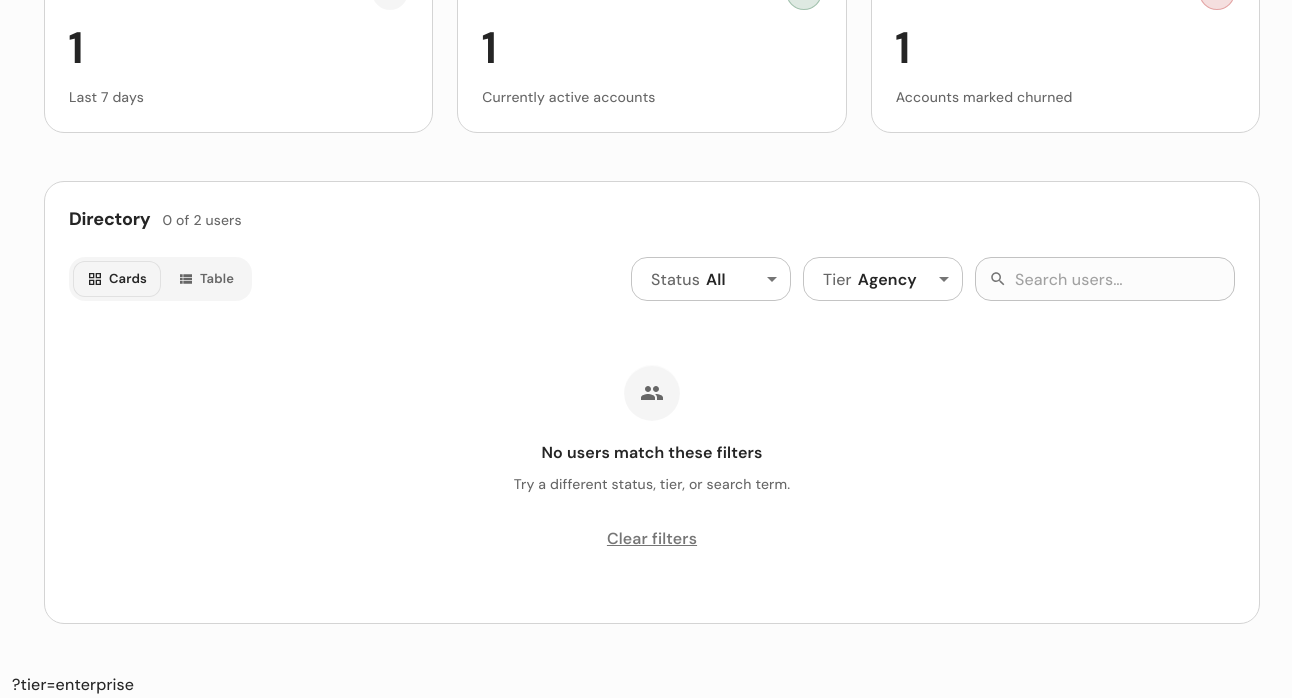
it: UserManagement › reads filters from the URL on load and can clear them
(page scrolled)
Expected: the text "No users match these filters" is shown, [542,441,762,465]
Click the button "Clear filters".
click(652, 540)  # box [599,520,705,560]
(page scrolled)
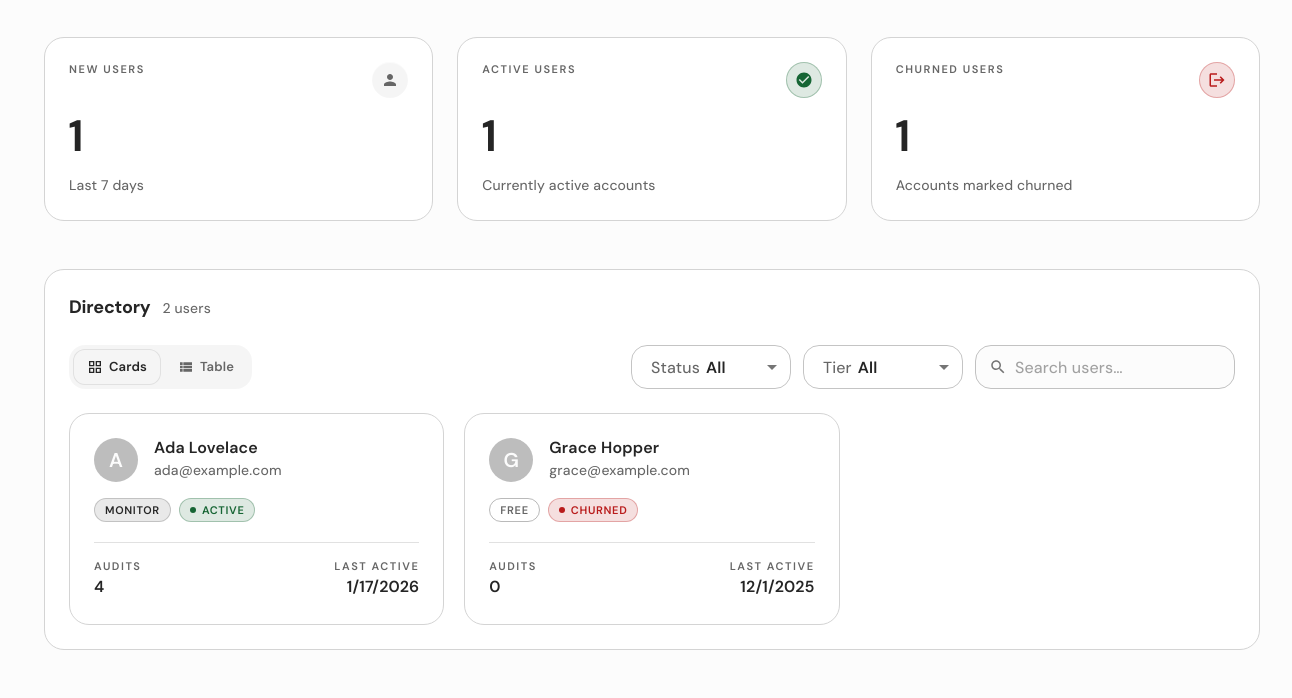
Expected: the heading "Ada Lovelace" is shown, [154,438,258,458]
